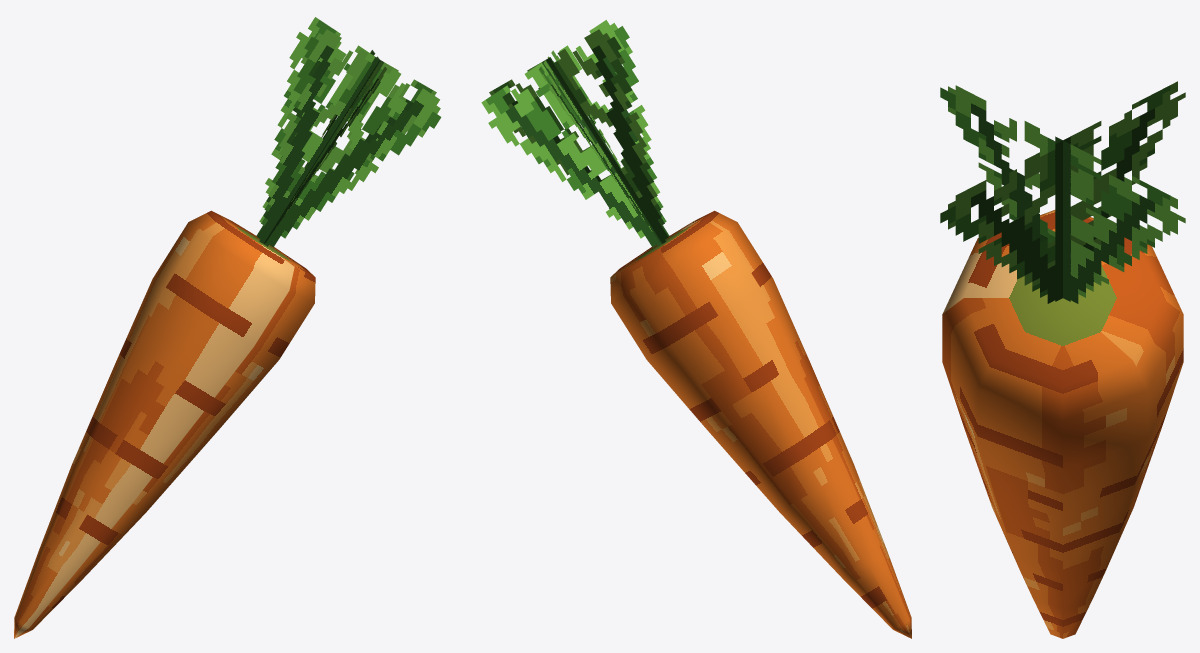
The model's file is produce-carrot.glb.
3 renders of one model, left to right at view 1: azimuth 30°, elevation 25°; view 2: azimuth 150°, elevation 25°; view 3: azimuth 270°, elevation 25°, orthographic. The views are drawn at different scales.
Parts seen in each view (by area): view 1: produce.carrot; view 2: produce.carrot; view 3: produce.carrot.
Boxes of the visible parts, <box> form: produce.carrot: <box>14,17,441,638</box>; produce.carrot: <box>481,20,911,638</box>; produce.carrot: <box>940,81,1185,638</box>.
Size of the model in its own units: 1.27 by 1.54 by 0.3994.
2 materials, 2 textured.
